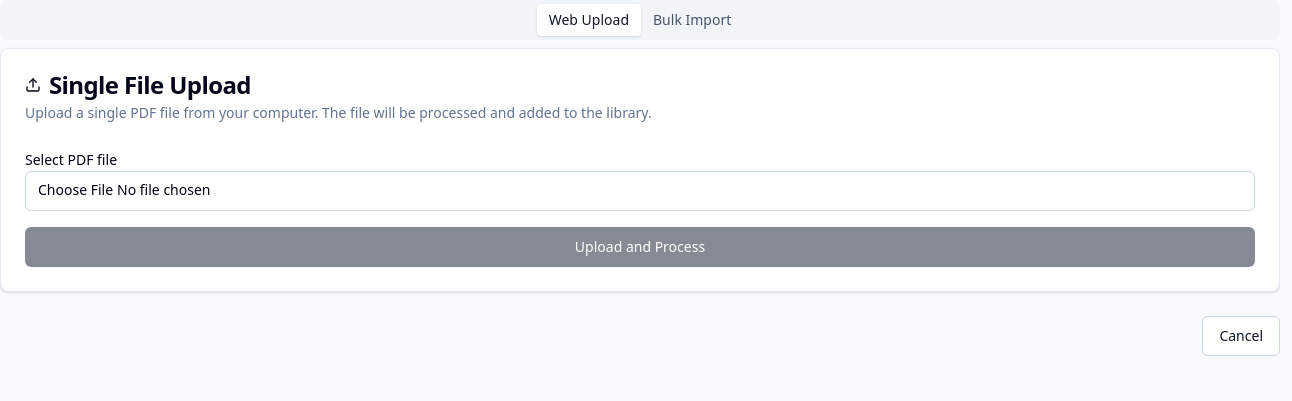
Test: ImportDialog › switches to the bulk import tab
Click the tab "Bulk Import": (692, 20) top-left (641, 4), bottom-right (743, 36)
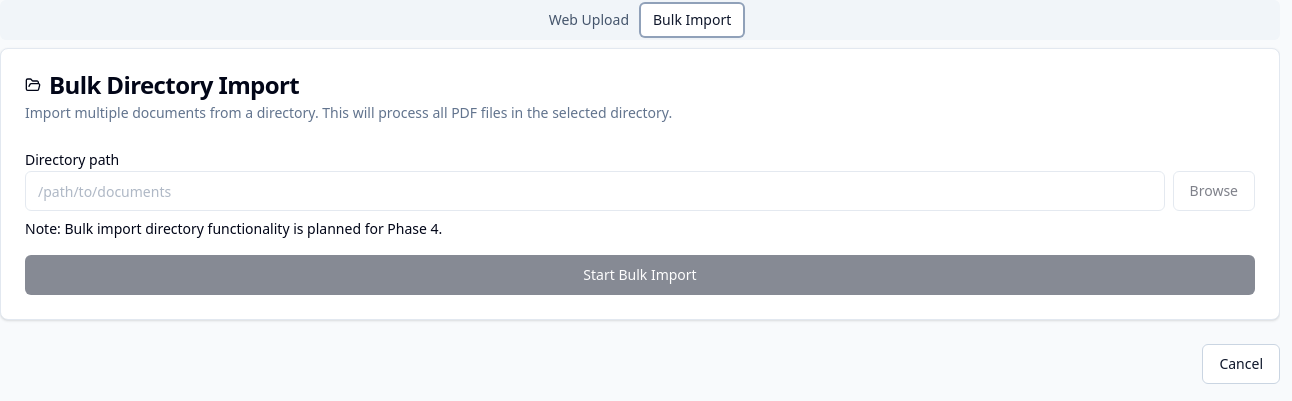
Now the heading "Bulk Directory Import" is shown, box top-left (25, 68), bottom-right (299, 101)
Now the heading "Single File Upload" is gone
